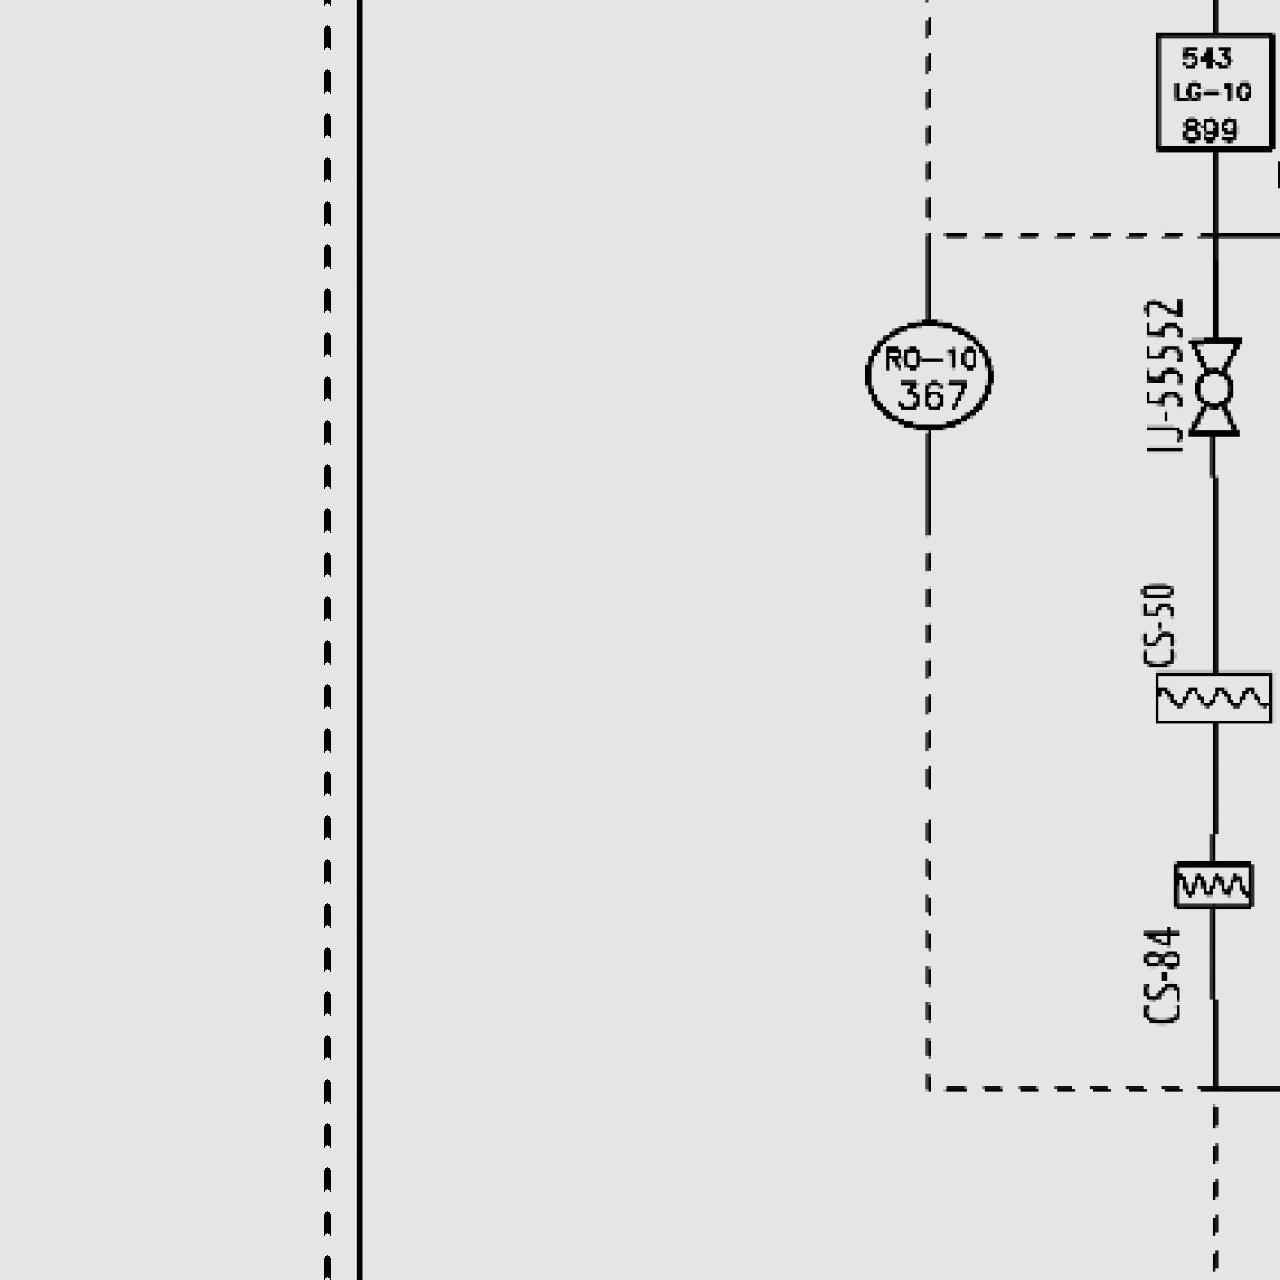Control-Panel: (860, 307, 996, 442)
